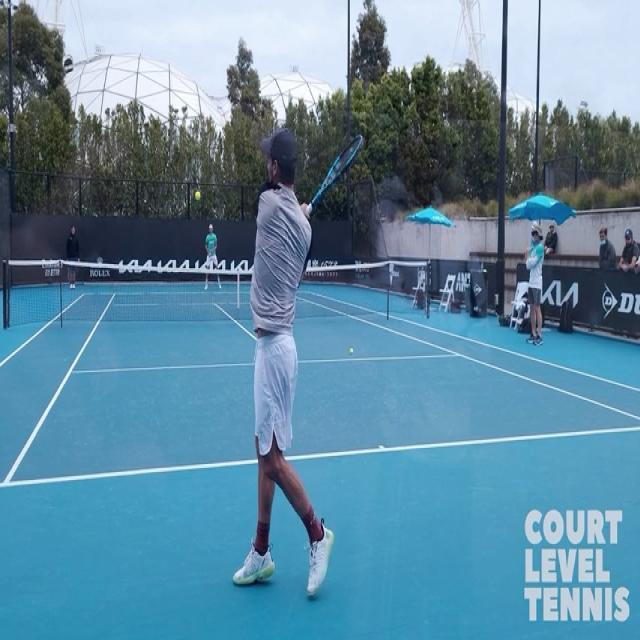backhand-finish: (223, 112, 362, 618)
